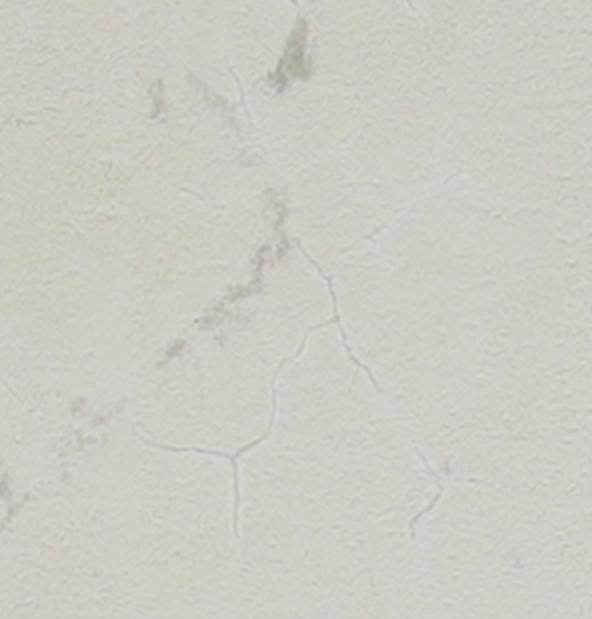objects: (144, 216, 454, 551)
